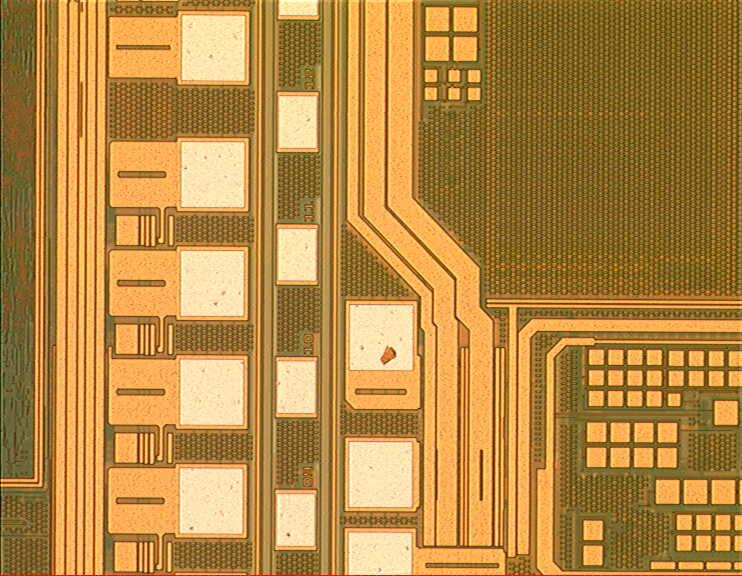BLOCK ETCH: (372, 340, 404, 372)
